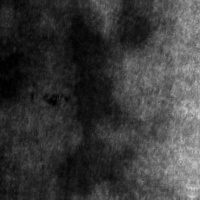patches: (60, 10, 116, 132), (0, 44, 38, 112), (116, 2, 162, 53)
